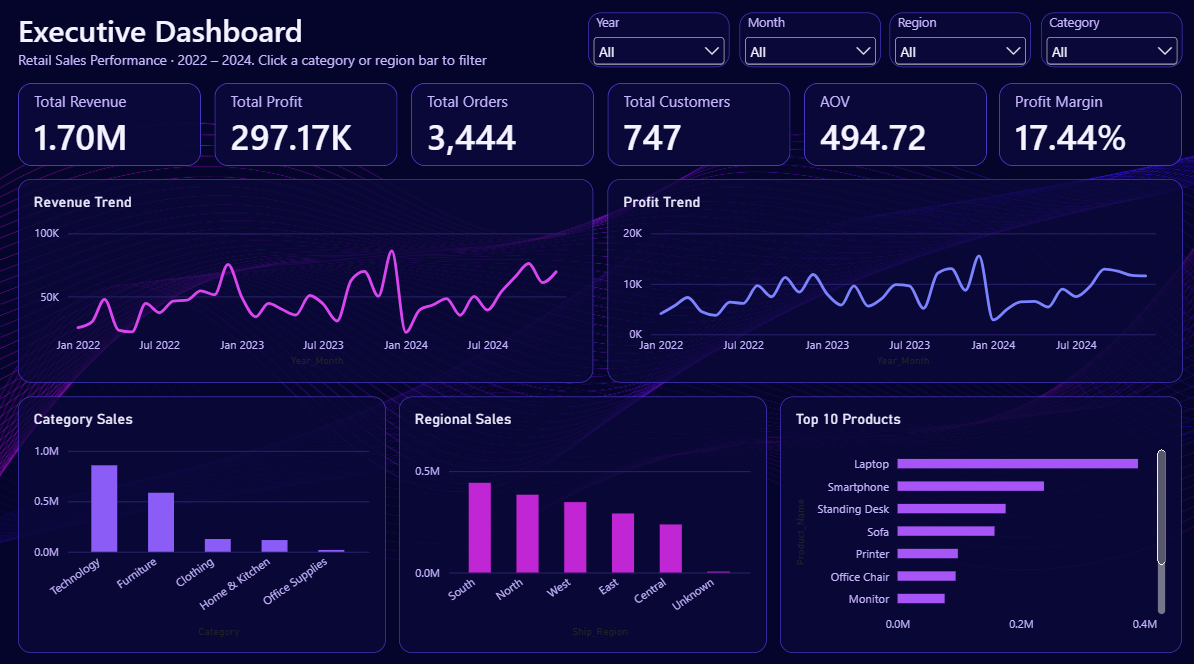

The page's visual inventory and layout, read from the dashboard file:
{"tool":"powerbi","page":{"name":"Executive Dashboard","canvas":[1280,720],"ordinal":0},"visuals":[{"type":"cardVisual","fields":{"Data":["FactSales.Total Revenue"]},"box":[23,92,194,88],"z":0},{"type":"cardVisual","fields":{"Data":["FactSales.Total Profit"]},"box":[231,92,194,88],"z":1000},{"type":"cardVisual","fields":{"Data":["FactSales.Total Orders"]},"box":[439,92,194,88],"z":2000},{"type":"cardVisual","fields":{"Data":["FactSales.Total Customers"]},"box":[647,92,194,88],"z":3000},{"type":"cardVisual","fields":{"Data":["FactSales.Profit Margin"]},"box":[1063,92,194,88],"z":4000},{"type":"cardVisual","fields":{"Data":["FactSales.AOV"]},"box":[855,92,194,88],"z":5000},{"type":"textbox","box":[23,14,560,64],"z":6000},{"type":"slicer","title":"Year","fields":{"Values":["DimDate.Year"]},"box":[627,18,150,58],"z":7000},{"type":"slicer","title":"Year","fields":{"Values":["FactSales.Ship_Region"]},"box":[947,18,150,58],"z":8000},{"type":"slicer","title":"Year","fields":{"Values":["DimDate.Month"]},"box":[787,18,150,58],"z":9000},{"type":"slicer","title":"Year","fields":{"Values":["DimProduct.Category"]},"box":[1107,18,150,58],"z":10000},{"type":"lineChart","title":"Revenue Trend","fields":{"Category":["DimDate.Year_Month"],"Y":["FactSales.Total Revenue"]},"box":[23,194.6,610,216],"z":11000},{"type":"lineChart","title":"Profit Trend","fields":{"Category":["DimDate.Year_Month"],"Y":["FactSales.Total Profit"]},"box":[647,194.6,610,216],"z":12000},{"type":"clusteredColumnChart","title":"Category Sales","fields":{"Category":["DimProduct.Category"],"Y":["FactSales.Total Revenue"]},"box":[23,424,390,272],"z":13000},{"type":"clusteredColumnChart","title":"Regional Sales","fields":{"Category":["FactSales.Ship_Region"],"Y":["FactSales.Total Revenue"]},"box":[427,424,390,272],"z":14000},{"type":"clusteredBarChart","title":"Top 10 Products","fields":{"Category":["DimProduct.Product_Name"],"Y":["FactSales.Total Revenue"]},"box":[831,424,426,272],"z":15000}]}

Visuals, with their boxes in screenshot pixels (x1, y1, x2, y2), scaled from the page's 1280x720 canvas onto the 1194x664 screenshot:
cardVisual - FactSales.Total Revenue: box=[21, 85, 202, 166]
cardVisual - FactSales.Total Profit: box=[215, 85, 396, 166]
cardVisual - FactSales.Total Orders: box=[410, 85, 590, 166]
cardVisual - FactSales.Total Customers: box=[604, 85, 784, 166]
cardVisual - FactSales.Profit Margin: box=[992, 85, 1173, 166]
cardVisual - FactSales.AOV: box=[798, 85, 979, 166]
textbox: box=[21, 13, 544, 72]
"Year" slicer: box=[585, 17, 725, 70]
"Year" slicer: box=[883, 17, 1023, 70]
"Year" slicer: box=[734, 17, 874, 70]
"Year" slicer: box=[1033, 17, 1173, 70]
"Revenue Trend" lineChart: box=[21, 179, 590, 379]
"Profit Trend" lineChart: box=[604, 179, 1173, 379]
"Category Sales" clusteredColumnChart: box=[21, 391, 385, 642]
"Regional Sales" clusteredColumnChart: box=[398, 391, 762, 642]
"Top 10 Products" clusteredBarChart: box=[775, 391, 1173, 642]
